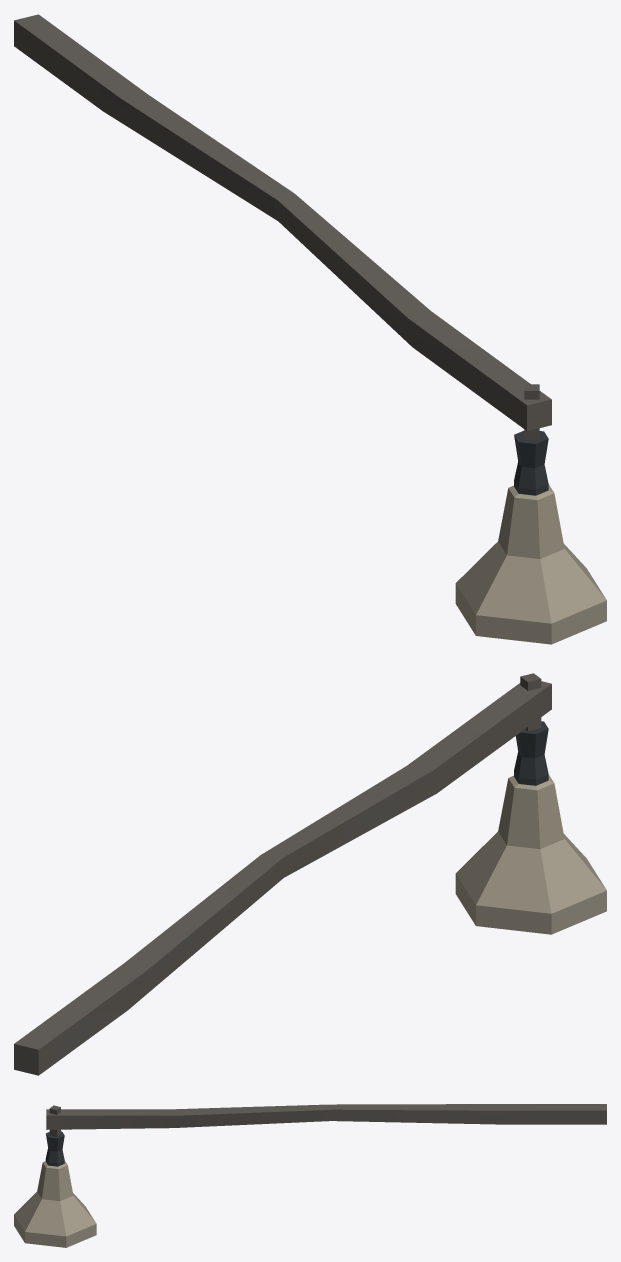
Rendered from SM_Prop_Street_Light_03.glb.
3 renders of one model, top to bottom at view 1: azimuth 30°, elevation 25°; view 2: azimuth 150°, elevation 25°; view 3: azimuth 270°, elevation 25°, orthographic. The views are drawn at different scales.
Parts seen in each view (by area): view 1: SM_Prop_Street_Light_03; view 2: SM_Prop_Street_Light_03; view 3: SM_Prop_Street_Light_03.
Part boxes in pixels (x1=…): SM_Prop_Street_Light_03: x1=14, y1=14, x2=606, y2=644; SM_Prop_Street_Light_03: x1=14, y1=673, x2=606, y2=1075; SM_Prop_Street_Light_03: x1=14, y1=1104, x2=606, y2=1247.
Size of the model in its own units: 0.2656 by 0.4675 by 1.91.
1 material, 1 textured.
